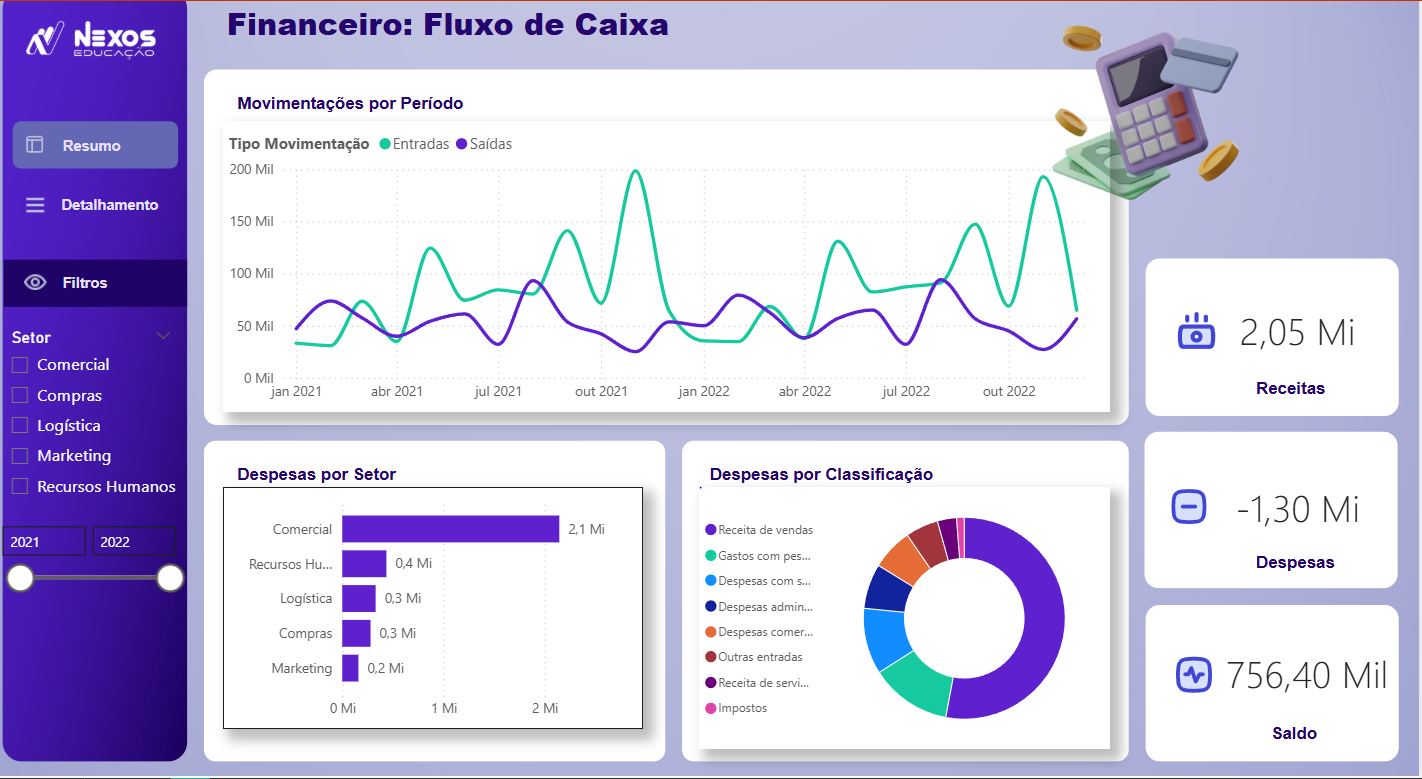

What the dashboard file says about the page in this screenshot:
{"tool":"powerbi","page":{"name":"Página 1","canvas":[1280,720],"ordinal":0},"visuals":[{"type":"lineChart","fields":{"Category":["Extratos.Data.Variation.Hierarquia de datas.Ano","Extratos.Data.Variation.Hierarquia de datas.Trimestre","Extratos.Data.Variation.Hierarquia de datas.Mês","Extratos.Data.Variation.Hierarquia de datas.Dia"],"Y":["Sum(Extratos.Valor)"],"Series":["Extratos.Tipo Movimentação"]},"box":[217.2,136.4,787.9,258.6],"z":0},{"type":"slicer","fields":{"Values":["Setores.Setor"]},"box":[16.2,315.2,166.7,213.1],"z":1000},{"type":"cardVisual","fields":{"Data":["Sum(Extratos.Saldo)"]},"box":[1089.8,578.7,182.2,82.7],"z":2000},{"type":"slicer","fields":{"Values":["Extratos.Data.Variation.Hierarquia de datas.Ano"]},"box":[8.1,485.9,182.8,83.8],"z":3000},{"type":"cardVisual","fields":{"Data":["Sum(Extratos.Saldo)"]},"box":[1098,431.3,149.5,85.9],"z":4000},{"type":"cardVisual","fields":{"Data":["Sum(Extratos.Saldo)"]},"box":[1098,273.7,149.5,85.9],"z":5000},{"type":"clusteredBarChart","fields":{"Category":["Setores.Setor"],"Y":["Sum(Extratos.Valor)"]},"box":[217.2,461.6,372.7,215.2],"z":6000},{"type":"donutChart","fields":{"Category":["Extratos.Classificação"],"Y":["Sum(Extratos.Valor)","CountNonNull(Extratos.Tipo Movimentação)"]},"box":[640.4,461.6,364.6,233.3],"z":7000}]}

Visuals, with their boxes in screenshot pixels (x1, y1, x2, y2), scaled from the page's 1280x720 canvas onto the 1422x779 screenshot:
lineChart - Extratos.Data.Variation.Hierarquia de datas.Ano x Extratos.Data.Variation.Hierarquia de datas.Trimestre: box=[241, 148, 1117, 427]
slicer - Setores.Setor: box=[18, 341, 203, 572]
cardVisual - Sum(Extratos.Saldo): box=[1211, 626, 1413, 716]
slicer - Extratos.Data.Variation.Hierarquia de datas.Ano: box=[9, 526, 212, 616]
cardVisual - Sum(Extratos.Saldo): box=[1220, 467, 1386, 560]
cardVisual - Sum(Extratos.Saldo): box=[1220, 296, 1386, 389]
clusteredBarChart - Setores.Setor x Sum(Extratos.Valor): box=[241, 499, 655, 732]
donutChart - Extratos.Classificação x Sum(Extratos.Valor): box=[711, 499, 1116, 752]
